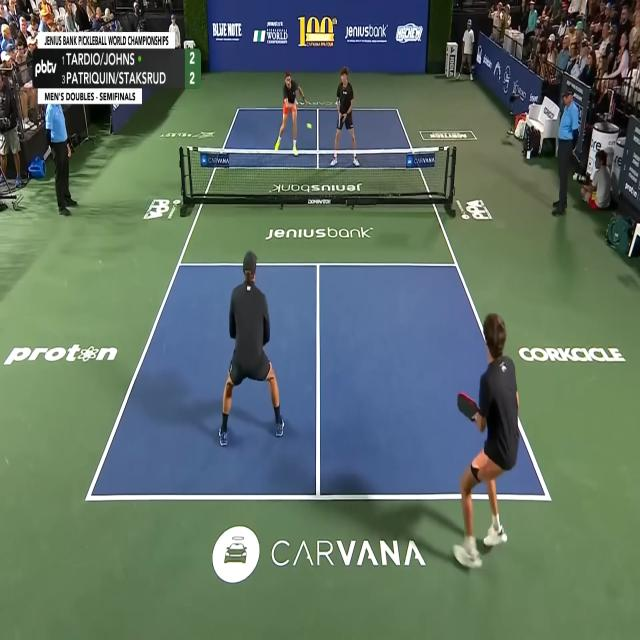ball: (306, 121, 312, 130)
